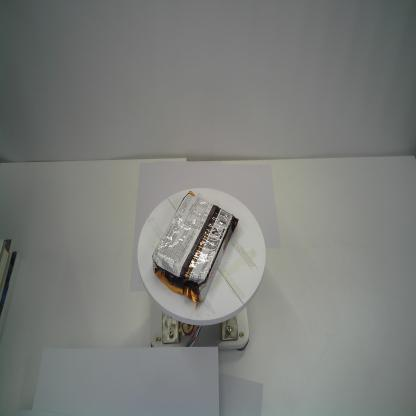Dessert: (151, 189, 239, 309)
